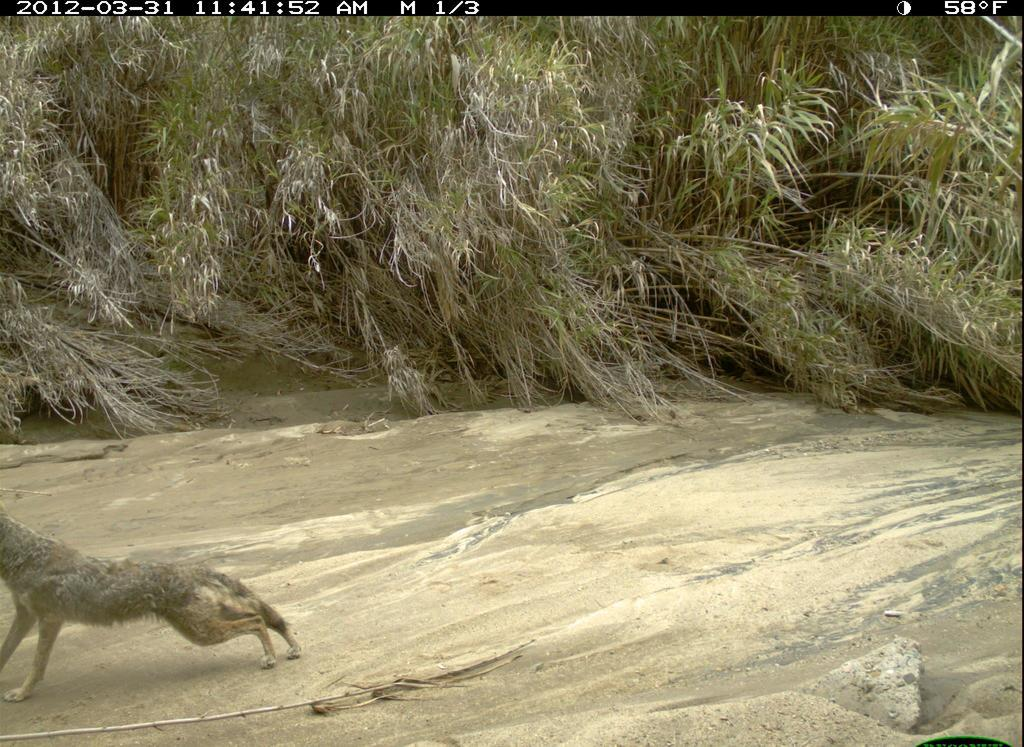coyote: (3, 502, 310, 707)
